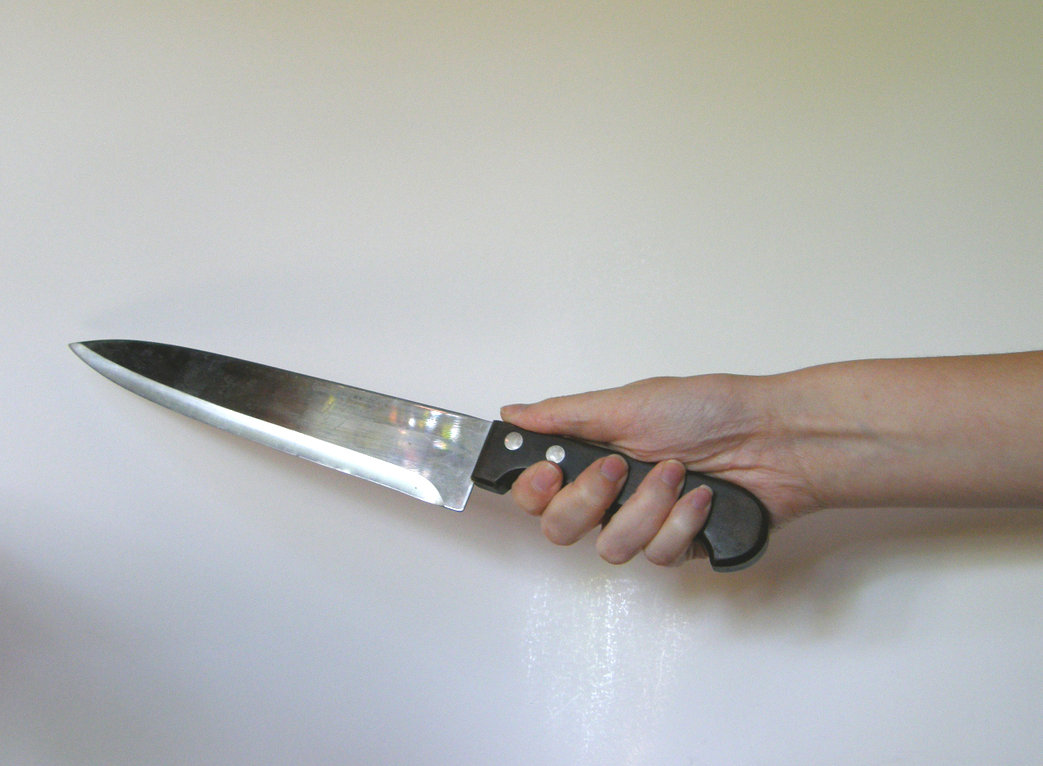knife: (56, 321, 599, 516)
